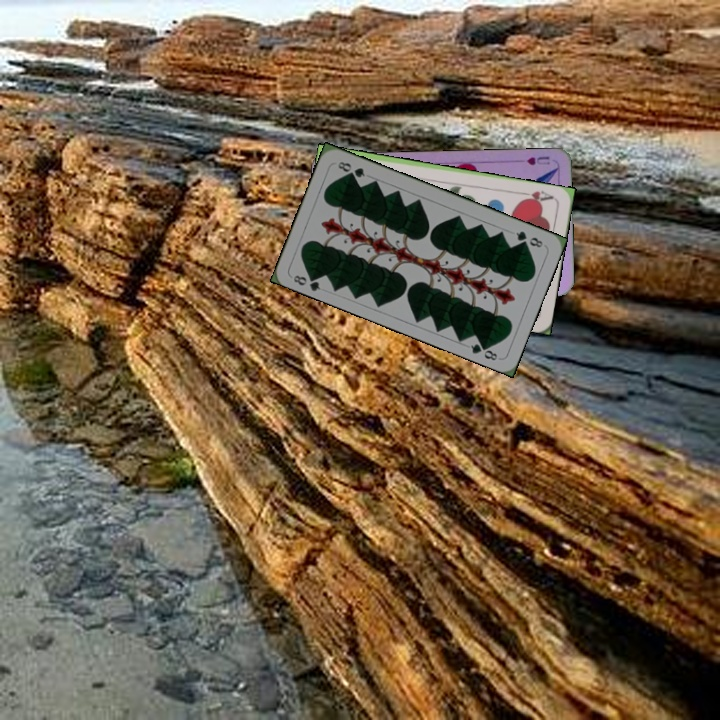G8: (289, 269, 323, 294), (512, 227, 546, 250)
HA: (516, 187, 556, 206)
HU: (523, 152, 552, 168)
